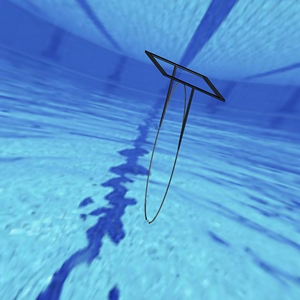circle: (142, 47, 225, 223)
